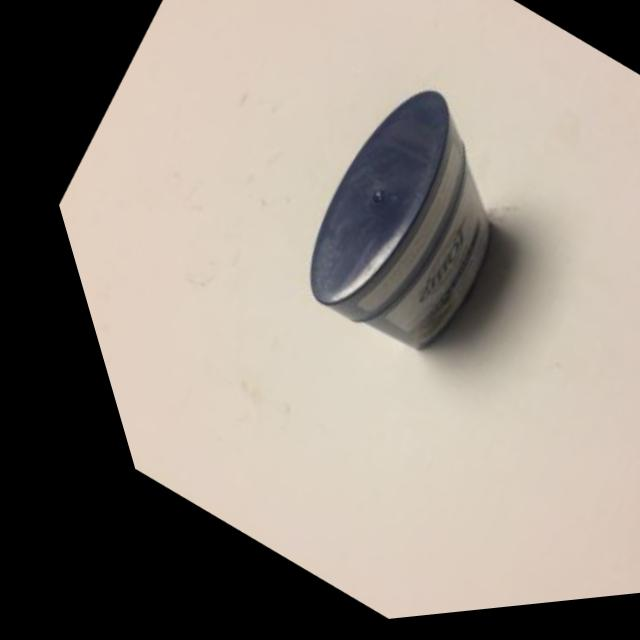trash: (54, 0, 640, 565)
